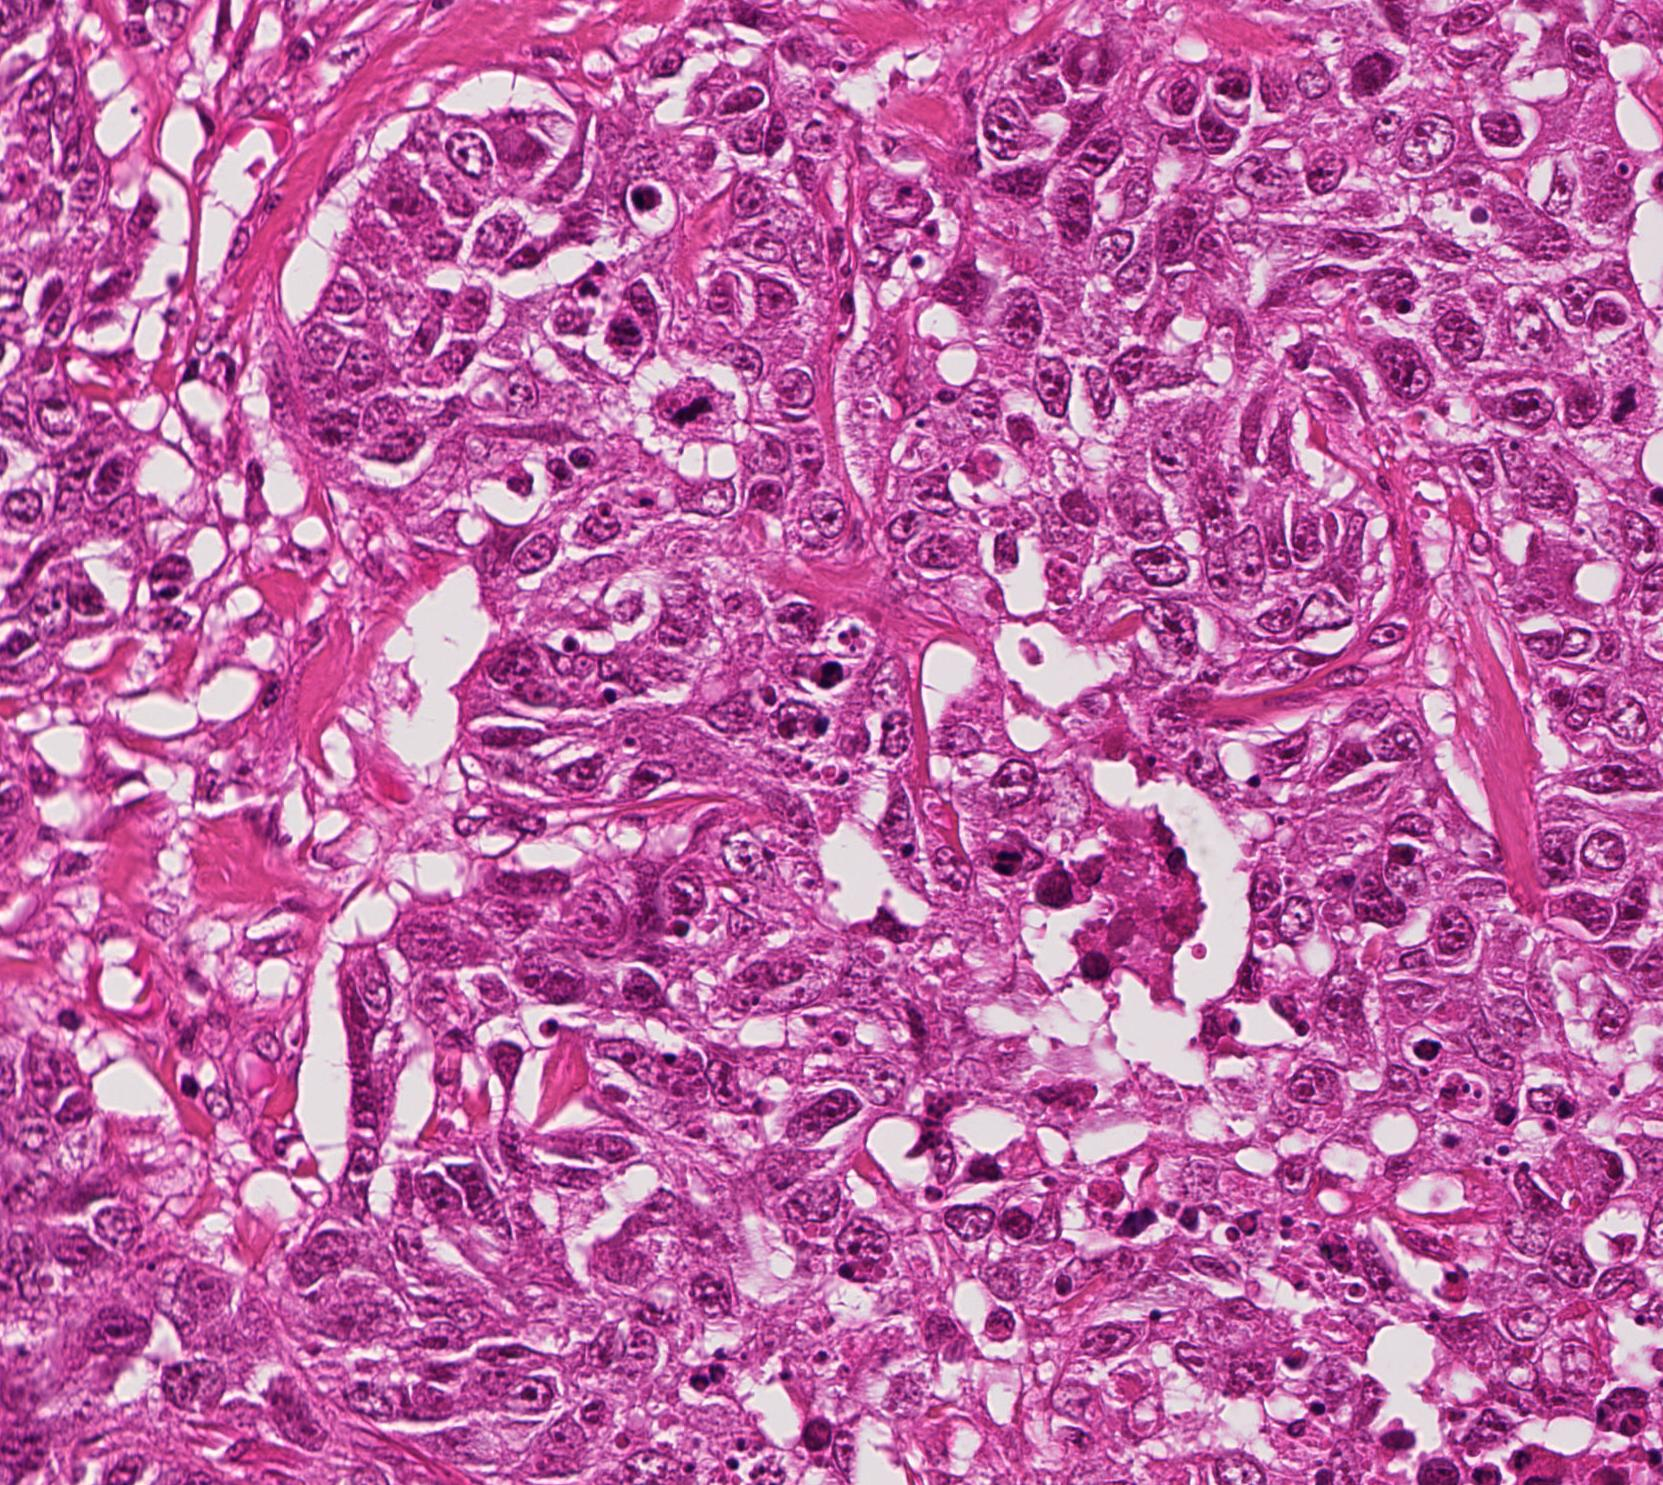mitosis: (664, 378, 724, 439)
